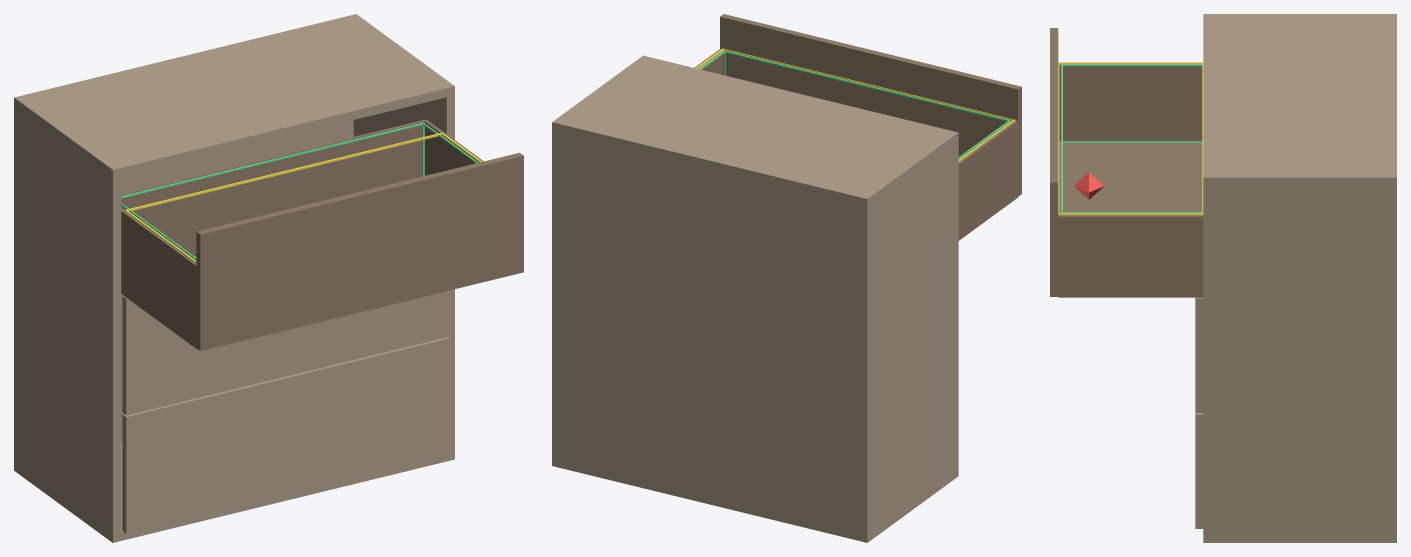
Rendered from HakoOnna_Pose_Tansu.glb.
3 renders of one model, left to right at view 1: azimuth 30°, elevation 25°; view 2: azimuth 150°, elevation 25°; view 3: azimuth 270°, elevation 25°, orthographic. The views are drawn at different scales.
Parts seen in each view (by area): view 1: Shell, Open_Drawer_0, Opening, SafeZone_1.5cm; view 2: Shell, Open_Drawer_0, SafeZone_1.5cm, Opening; view 3: Shell, Open_Drawer_0, Opening, SafeZone_1.5cm, FaceTarget.
Part boxes in pixels (x1,y1,x2,y2): Shell: (14,14,454,542); Open_Drawer_0: (121,119,523,351); Opening: (125,132,482,262); SafeZone_1.5cm: (121,123,478,260); Shell: (552,55,958,542); Open_Drawer_0: (694,14,1021,240); SafeZone_1.5cm: (699,50,1010,159); Opening: (696,48,1015,161); Shell: (1195,14,1396,542); Open_Drawer_0: (1050,28,1203,297); Opening: (1058,62,1203,215); SafeZone_1.5cm: (1061,64,1202,213); FaceTarget: (1074,172,1103,199).
Size of what is drawn, in the model's own units: 1.5 by 1.56 by 1.34.
